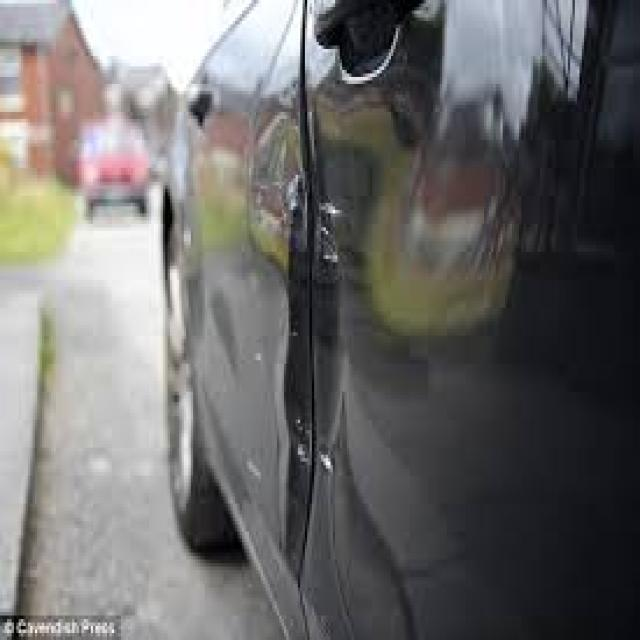minor: (243, 100, 343, 545)
